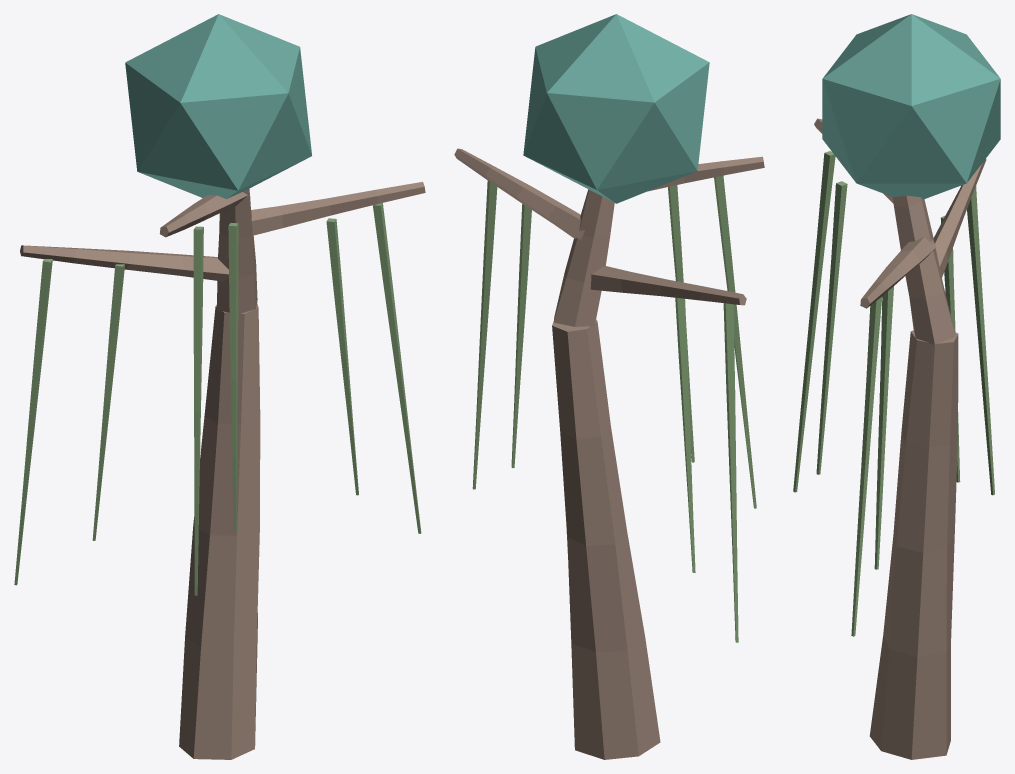
The model's file is 11_Willow_Enchanted.glb.
3 renders of one model, left to right at view 1: azimuth 30°, elevation 25°; view 2: azimuth 150°, elevation 25°; view 3: azimuth 270°, elevation 25°, orthographic.
Parts seen in each view (by area): view 1: Willow_Trunk, Willow_Foliage1, Willow_HBranch1, Willow_HBranch2, Willow_TrunkTop, Willow_Liane5, Willow_Liane3, Willow_Liane1, Willow_Liane6, Willow_Liane4, Willow_Liane2, Willow_HBranch3; view 2: Willow_Trunk, Willow_Foliage1, Willow_TrunkTop, Willow_HBranch1, Willow_HBranch2, Willow_Liane1, Willow_Liane3, Willow_Liane5, Willow_Liane2, Willow_Liane4, Willow_HBranch3, Willow_Liane6; view 3: Willow_Trunk, Willow_Foliage1, Willow_TrunkTop, Willow_Liane5, Willow_Liane3, Willow_Liane6, Willow_Liane1, Willow_Liane4, Willow_HBranch2, Willow_HBranch1, Willow_Liane2.
Part boxes in pixels (x1=…): Willow_Trunk: x1=179, y1=303, x2=260, y2=759; Willow_Foliage1: x1=125, y1=14, x2=311, y2=198; Willow_HBranch1: x1=20, y1=245, x2=228, y2=281; Willow_HBranch2: x1=251, y1=181, x2=425, y2=235; Willow_TrunkTop: x1=217, y1=189, x2=257, y2=318; Willow_Liane5: x1=193, y1=226, x2=203, y2=595; Willow_Liane3: x1=373, y1=203, x2=421, y2=533; Willow_Liane1: x1=14, y1=259, x2=52, y2=585; Willow_Liane6: x1=228, y1=223, x2=238, y2=532; Willow_Liane4: x1=326, y1=218, x2=358, y2=495; Willow_Liane2: x1=92, y1=264, x2=124, y2=540; Willow_HBranch3: x1=159, y1=192, x2=247, y2=237; Willow_Trunk: x1=552, y1=319, x2=660, y2=759; Willow_Foliage1: x1=523, y1=14, x2=709, y2=203; Willow_TrunkTop: x1=553, y1=189, x2=614, y2=326; Willow_HBranch1: x1=590, y1=266, x2=746, y2=305; Willow_HBranch2: x1=454, y1=148, x2=584, y2=240; Willow_Liane1: x1=723, y1=303, x2=738, y2=642; Willow_Liane3: x1=472, y1=180, x2=497, y2=489; Willow_Liane5: x1=714, y1=175, x2=756, y2=508; Willow_Liane2: x1=675, y1=297, x2=695, y2=572; Willow_Liane4: x1=511, y1=204, x2=531, y2=468; Willow_HBranch3: x1=648, y1=156, x2=764, y2=191; Willow_Liane6: x1=668, y1=185, x2=694, y2=462; Willow_Trunk: x1=869, y1=330, x2=958, y2=759; Willow_Foliage1: x1=822, y1=14, x2=1000, y2=199; Willow_TrunkTop: x1=892, y1=195, x2=955, y2=344; Willow_Liane5: x1=793, y1=151, x2=835, y2=492; Willow_Liane3: x1=851, y1=296, x2=882, y2=636; Willow_Liane6: x1=816, y1=181, x2=847, y2=474; Willow_Liane1: x1=967, y1=186, x2=994, y2=495; Willow_Liane4: x1=874, y1=286, x2=893, y2=569; Willow_HBranch2: x1=860, y1=237, x2=936, y2=308; Willow_HBranch1: x1=933, y1=159, x2=986, y2=277; Willow_Liane2: x1=940, y1=215, x2=960, y2=482.
Bounding box in the file's own units: 1.71 × 3.46 × 0.8912.
